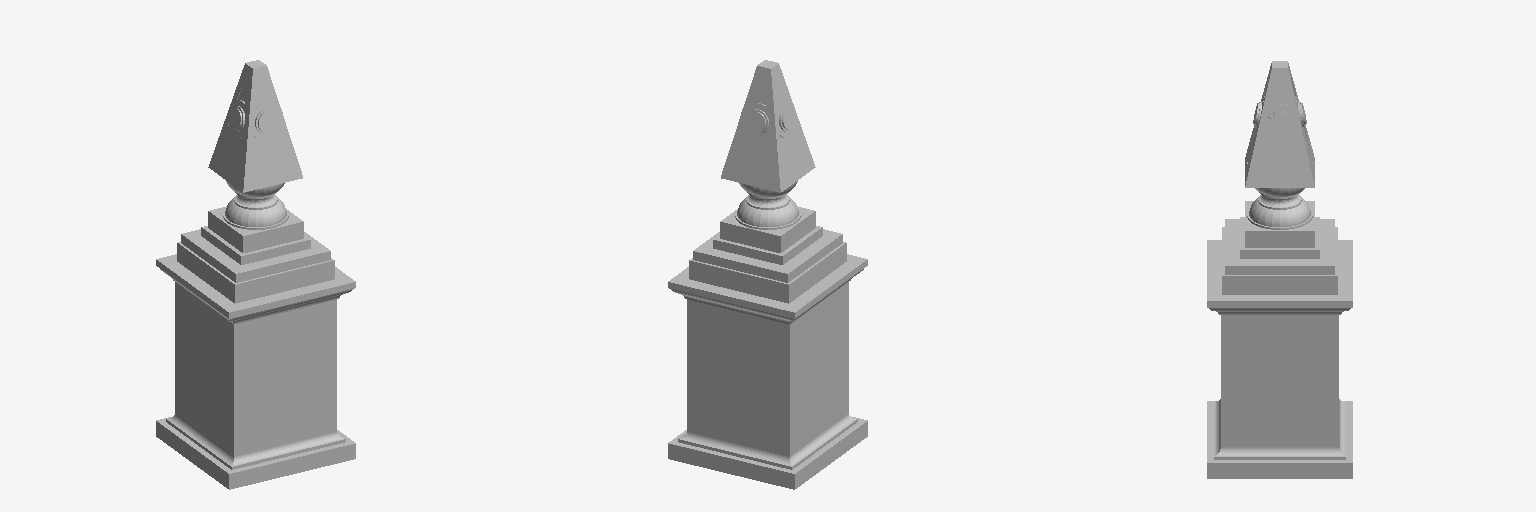
The model's file is obelisk.obj.
The picture shows the model from 3 angles: view 1: azimuth 30°, elevation 25°; view 2: azimuth 150°, elevation 25°; view 3: azimuth 270°, elevation 25°; orthographic projection.
Parts seen in each view (by area): view 1: Mesh1 Model; view 2: Mesh1 Model; view 3: Mesh1 Model.
Boxes of the visible parts, x1=… form: Mesh1 Model: x1=156, y1=60, x2=355, y2=489; Mesh1 Model: x1=668, y1=60, x2=867, y2=489; Mesh1 Model: x1=1207, y1=61, x2=1352, y2=478.
Size of the model in its own units: 734 by 2120 by 734.